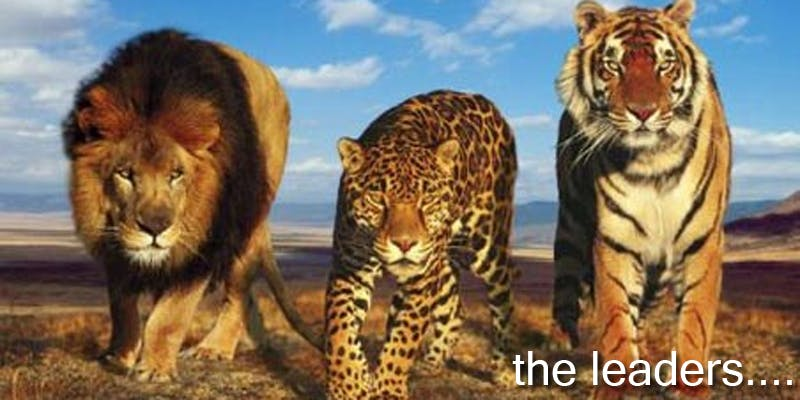leopard: (318, 88, 524, 396)
lion: (50, 17, 283, 382)
tiger: (548, 4, 756, 361)
